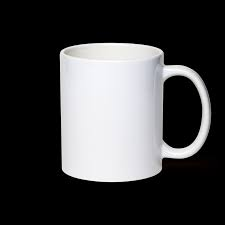mug: (54, 40, 214, 187)
